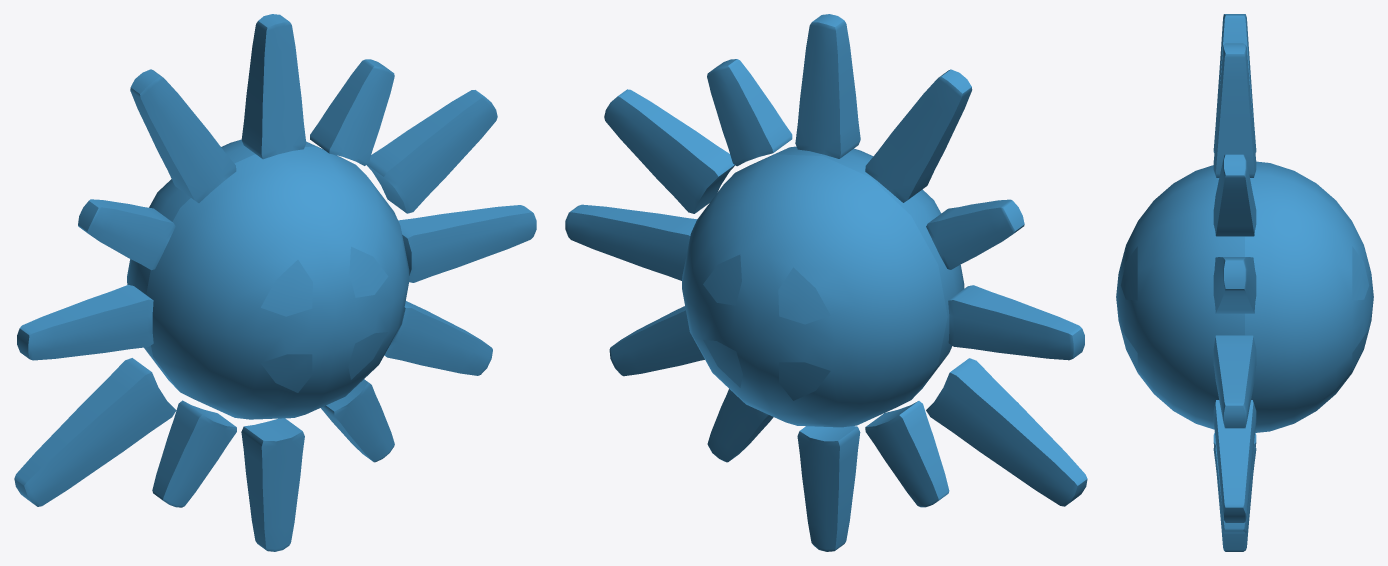
File: GlowSeedButton.fbx
3 renders of one model, left to right at view 1: azimuth 30°, elevation 25°; view 2: azimuth 150°, elevation 25°; view 3: azimuth 270°, elevation 25°, orthographic. The views are drawn at different scales.
Visible parts, largest first — view 1: GlowCandySeedButtonMod, Glow_mod_4, Glow_mod_10, Glow_mod_12, Glow_mod_3, Glow_mod_9, Glow_mod_1, Glow_mod_6, Glow_mod_11, Glow_mod_5, Glow_mod_8, Glow_mod_2 (+1 smaller); view 2: GlowCandySeedButtonMod, Glow_mod_4, Glow_mod_10, Glow_mod_12, Glow_mod_3, Glow_mod_1, Glow_mod_9, Glow_mod_6, Glow_mod_11, Glow_mod_5, Glow_mod_2, Glow_mod_8 (+1 smaller); view 3: GlowCandySeedButtonMod, Glow_mod_12, Glow_mod_8, Glow_mod_9, Glow_mod_11, Glow_mod_10, Glow_mod_1, Glow_mod_7, Glow_mod_6.
Part boxes in pixels (x1=…): GlowCandySeedButtonMod: x1=127, y1=139, x2=409, y2=419; Glow_mod_4: x1=14, y1=358, x2=176, y2=506; Glow_mod_10: x1=366, y1=90, x2=497, y2=213; Glow_mod_12: x1=241, y1=14, x2=306, y2=159; Glow_mod_3: x1=17, y1=285, x2=153, y2=360; Glow_mod_9: x1=398, y1=205, x2=536, y2=282; Glow_mod_1: x1=130, y1=69, x2=236, y2=202; Glow_mod_6: x1=241, y1=418, x2=304, y2=551; Glow_mod_11: x1=310, y1=59, x2=394, y2=165; Glow_mod_5: x1=152, y1=400, x2=236, y2=507; Glow_mod_8: x1=384, y1=301, x2=492, y2=375; Glow_mod_2: x1=78, y1=199, x2=175, y2=270; GlowCandySeedButtonMod: x1=682, y1=146, x2=964, y2=427; Glow_mod_4: x1=926, y1=358, x2=1087, y2=506; Glow_mod_10: x1=604, y1=89, x2=735, y2=213; Glow_mod_12: x1=795, y1=14, x2=860, y2=158; Glow_mod_3: x1=948, y1=285, x2=1084, y2=360; Glow_mod_1: x1=865, y1=69, x2=972, y2=202; Glow_mod_9: x1=565, y1=204, x2=696, y2=280; Glow_mod_6: x1=797, y1=426, x2=860, y2=551; Glow_mod_11: x1=707, y1=59, x2=792, y2=166; Glow_mod_5: x1=865, y1=401, x2=949, y2=507; Glow_mod_2: x1=926, y1=199, x2=1024, y2=269; Glow_mod_8: x1=609, y1=306, x2=704, y2=376; GlowCandySeedButtonMod: x1=1116, y1=161, x2=1373, y2=432; Glow_mod_12: x1=1213, y1=43, x2=1256, y2=177; Glow_mod_8: x1=1213, y1=400, x2=1256, y2=522; Glow_mod_9: x1=1213, y1=335, x2=1256, y2=428; Glow_mod_11: x1=1213, y1=154, x2=1256, y2=236; Glow_mod_10: x1=1213, y1=257, x2=1256, y2=313; Glow_mod_1: x1=1213, y1=14, x2=1256, y2=152; Glow_mod_7: x1=1213, y1=445, x2=1256, y2=533; Glow_mod_6: x1=1213, y1=432, x2=1256, y2=551.
Size of the model in its own units: 24.05 by 23.69 by 11.02.
